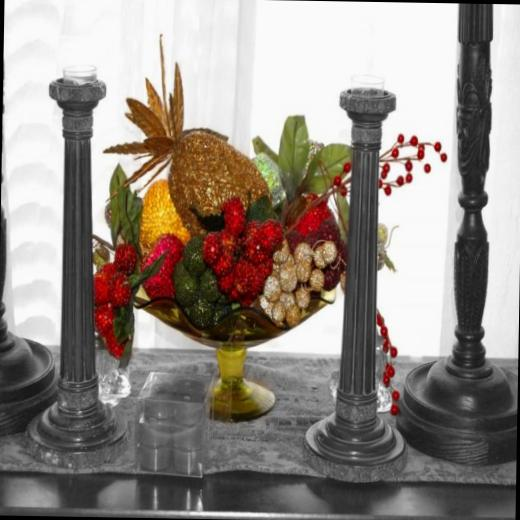Mango: (98, 29, 282, 239)
